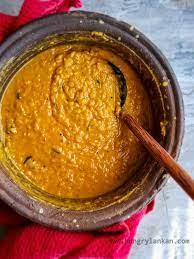Dhal Curry: (3, 26, 157, 227)
